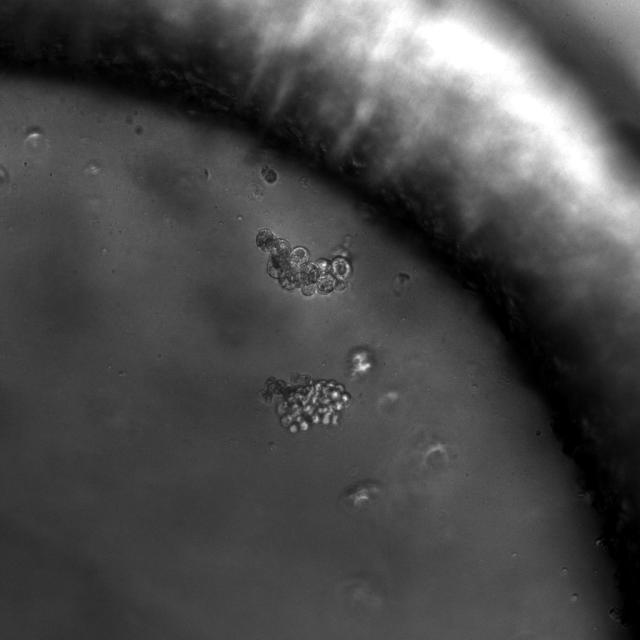organoid: (256, 229, 352, 295), (260, 374, 351, 432)
